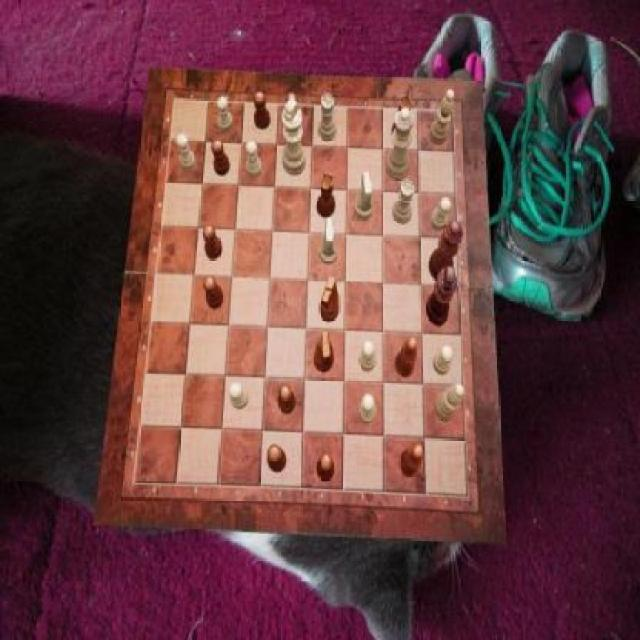bishop: (396, 338, 418, 378), (398, 443, 422, 478)
black-bishop: (426, 266, 459, 326)
black-king: (320, 277, 340, 322), (314, 331, 334, 372)
black-knight: (203, 224, 223, 260), (211, 139, 230, 176), (204, 276, 224, 310), (254, 91, 271, 129), (284, 92, 300, 131), (268, 446, 288, 474), (279, 384, 296, 416), (317, 454, 335, 481)
black-pawn: (429, 218, 465, 282)
black-queen: (392, 97, 412, 145), (317, 172, 336, 218)
black-rook: (431, 90, 455, 146), (434, 383, 464, 421)
white-bishop: (282, 99, 306, 176)
white-king: (354, 171, 374, 220), (318, 218, 338, 264)
white-knight: (429, 197, 452, 231), (177, 134, 197, 172), (246, 140, 263, 178), (217, 95, 234, 133), (434, 344, 454, 376), (229, 383, 249, 411), (360, 340, 377, 372), (359, 394, 376, 424)
white-pawn: (386, 108, 416, 182)
white-queen: (392, 178, 415, 224), (318, 94, 338, 141)
